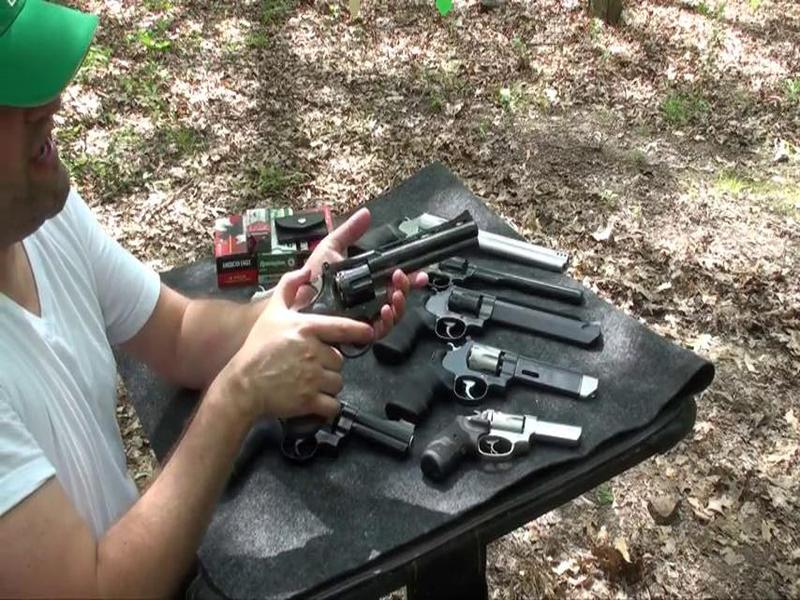Revolver: (289, 206, 475, 344)
